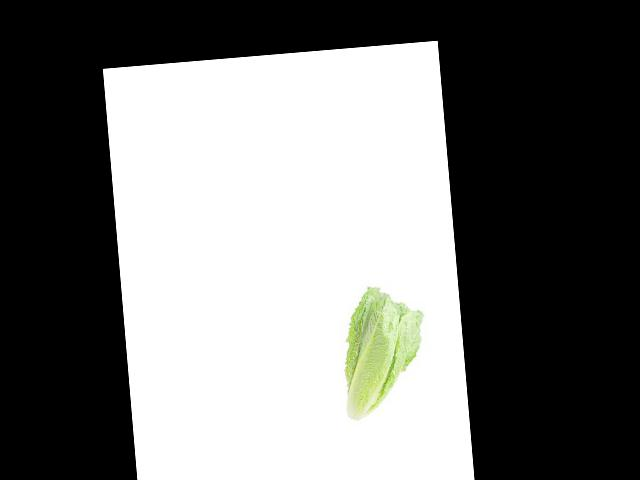lettuce: (338, 292, 428, 411)
